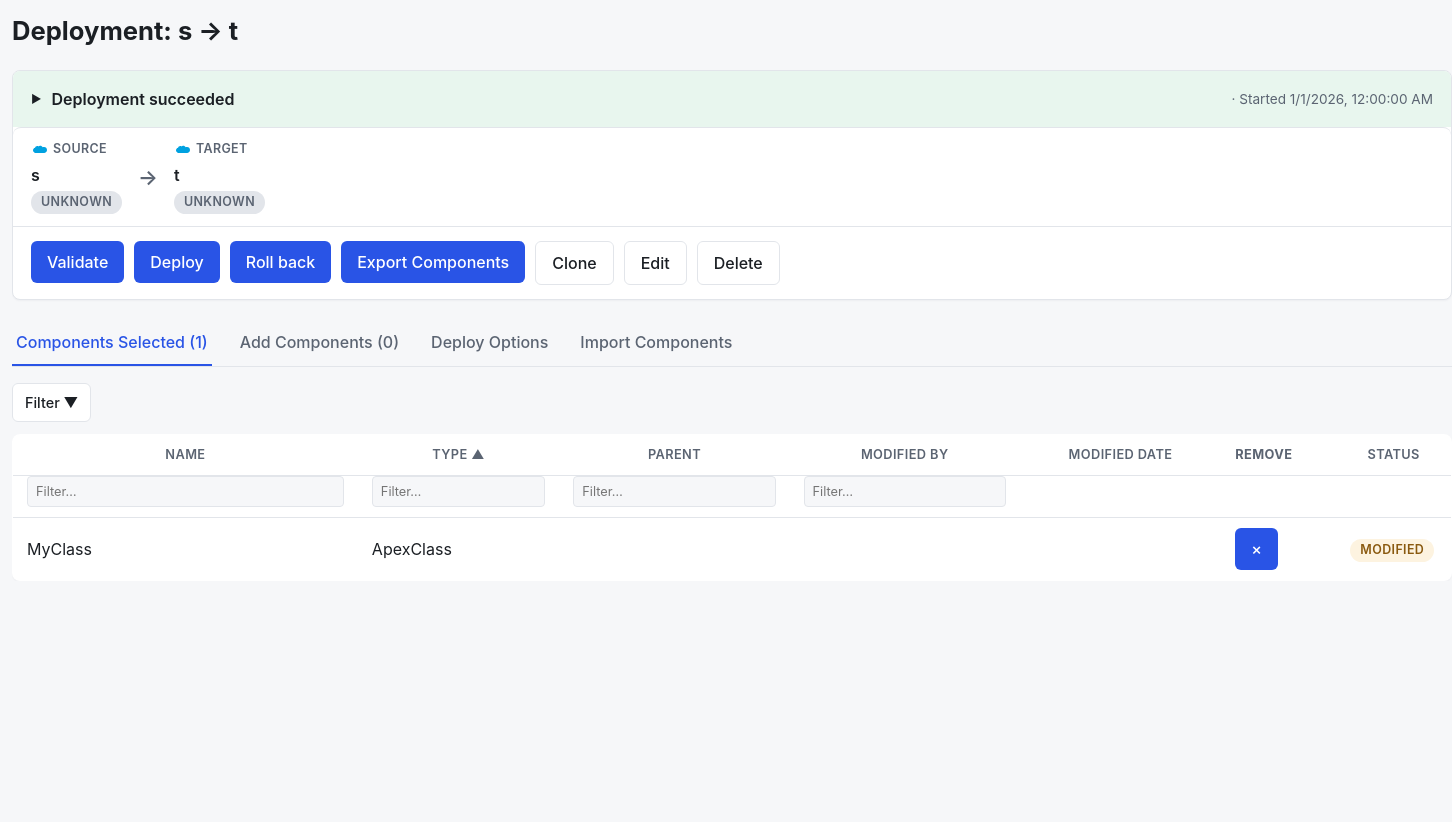
Test: DeploymentDetailPage — progress and re-run/cancel › shows an inline error and stays on the page when re-running fails
The width and height of the screenshot is (1452, 822).
Check: the text "MyClass" is shown, box top-left (12, 517), bottom-right (358, 580)
Click the button "Deploy" at (177, 262), box top-left (134, 241), bottom-right (220, 283)
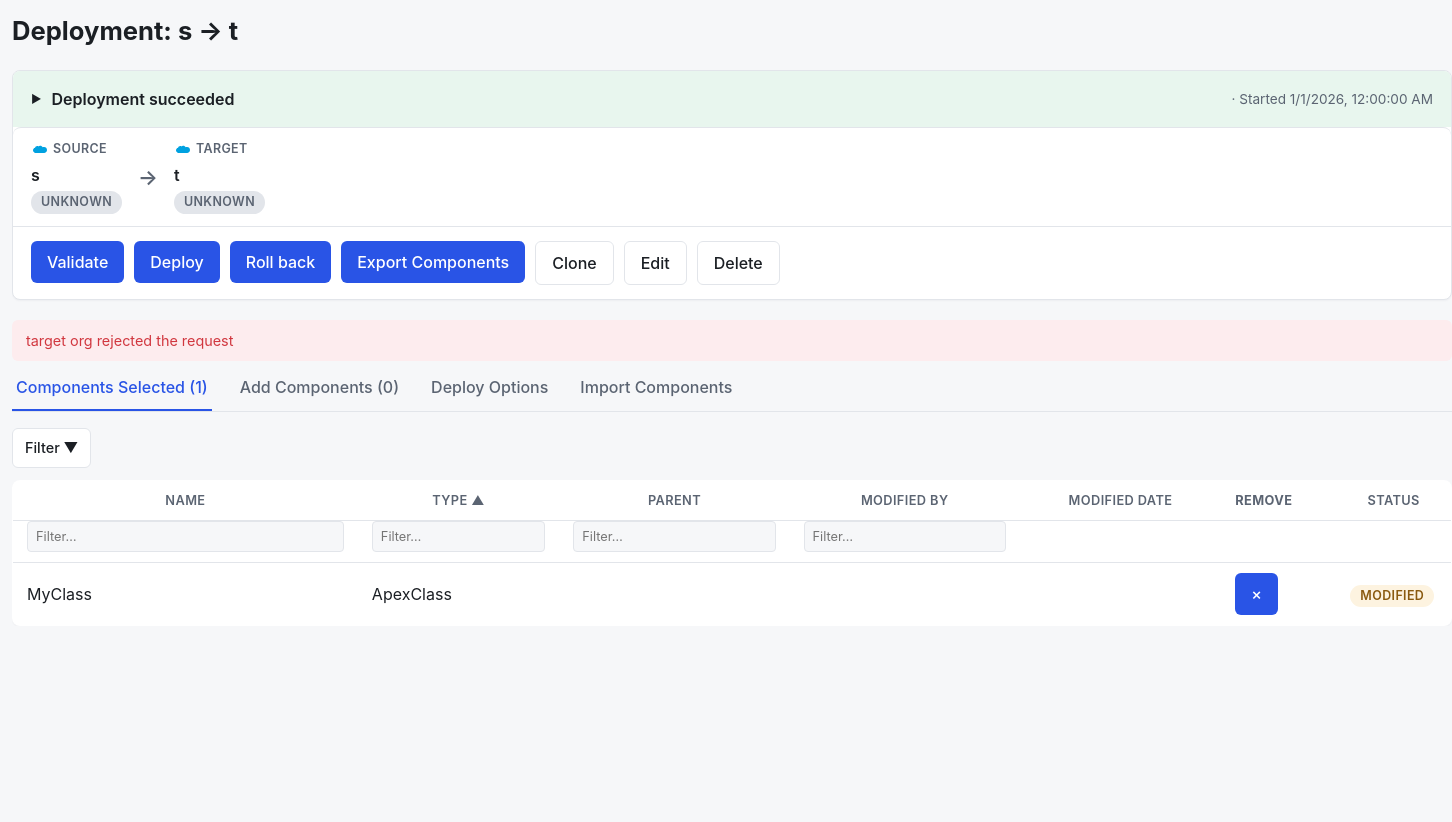
Check: the message reads "target org rejected the request", box top-left (26, 332), bottom-right (233, 349)
